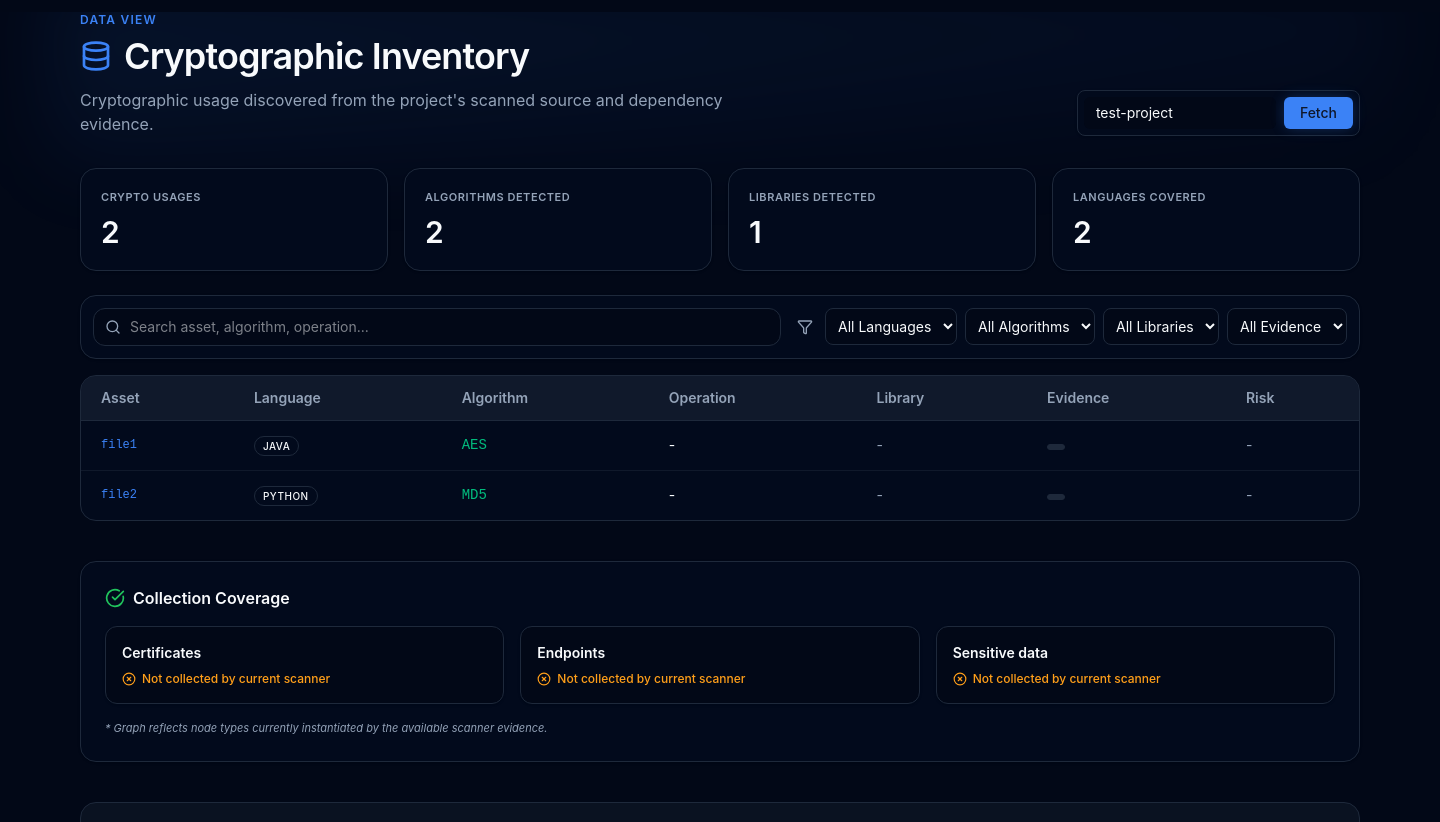
it: CryptoInventory Component › filters work (language, algorithm, library)
This screenshot has width=1440, height=822.
Check: the text "file1" is shown, box left=81, top=420, right=234, bottom=470
Select "Java" in the 1st dropdown at (891, 326), box left=825, top=308, right=957, bottom=345
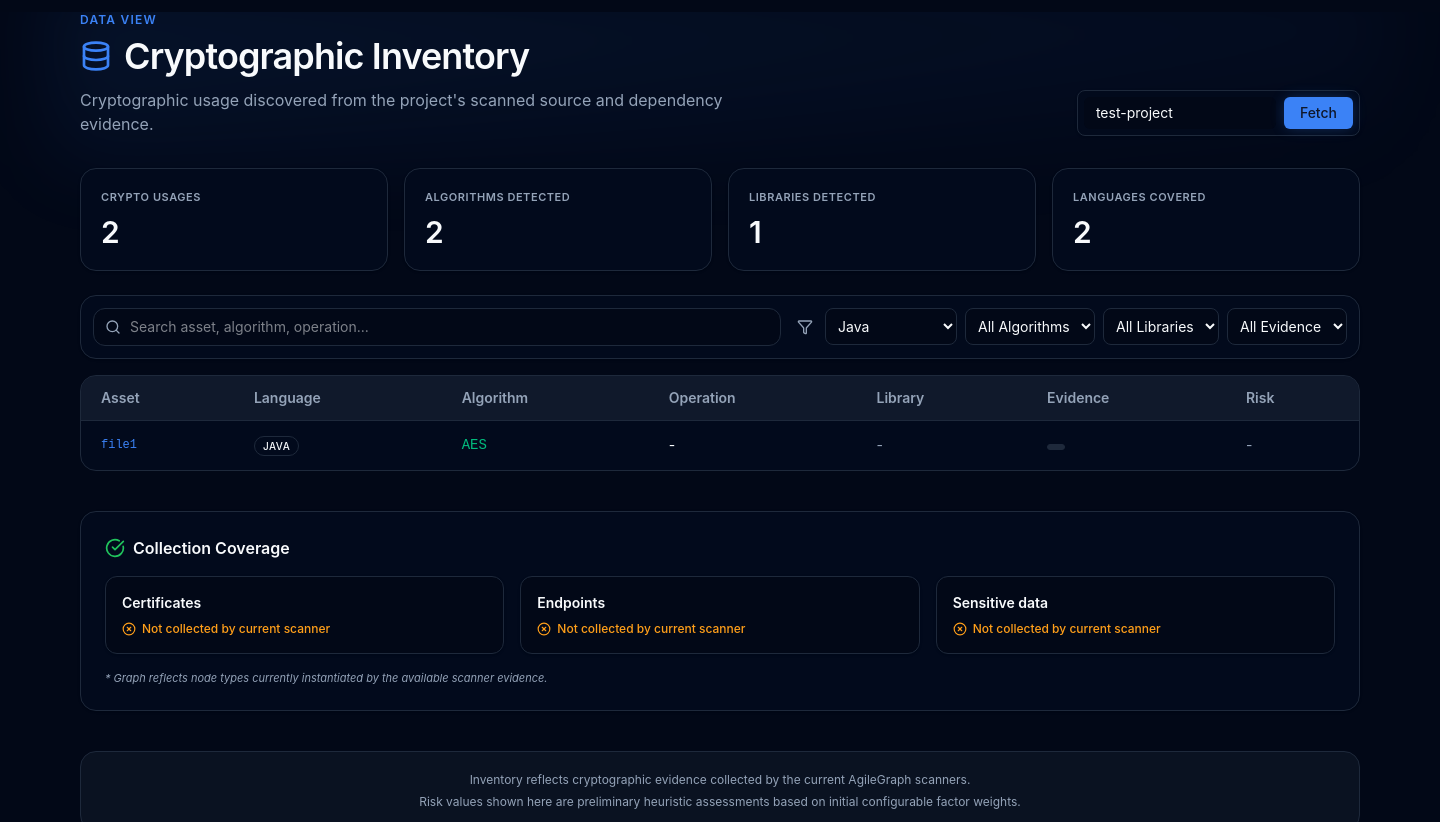
Check: the text "file1" is shown, box left=81, top=420, right=234, bottom=470
Check: the text "file2" is gone
